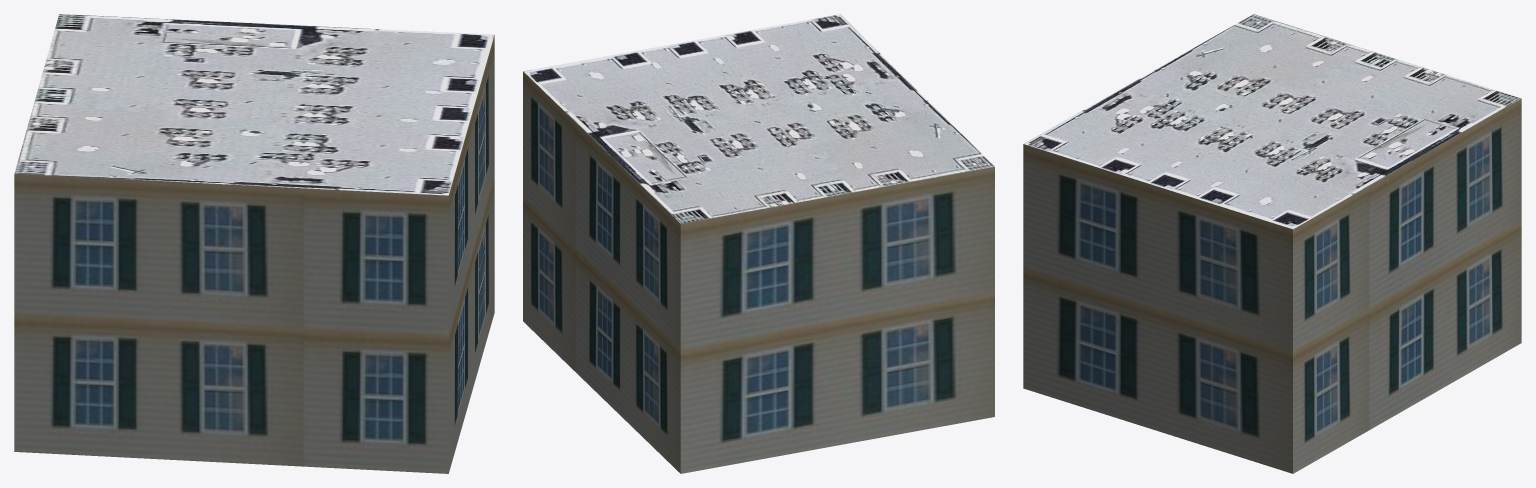
File: ResTex__3788.fbx
3 views of the same model, side by side, from view 1: azimuth 30°, elevation 25°; view 2: azimuth 150°, elevation 25°; view 3: azimuth 270°, elevation 25° (orthographic). The views are drawn at different scales.
Parts seen in each view (by area): view 1: CityEngineMaterial_7_m, CityEngineMaterial_15_m; view 2: CityEngineMaterial_7_m, CityEngineMaterial_15_m; view 3: CityEngineMaterial_7_m, CityEngineMaterial_15_m.
Part boxes in pixels (x1,y1,x2,y2): CityEngineMaterial_7_m: (14, 35, 494, 473); CityEngineMaterial_15_m: (14, 14, 494, 195); CityEngineMaterial_7_m: (523, 71, 994, 473); CityEngineMaterial_15_m: (523, 14, 994, 223); CityEngineMaterial_7_m: (1023, 98, 1521, 473); CityEngineMaterial_15_m: (1024, 14, 1521, 229).
Size of the model in its own units: 11.34 by 6 by 11.08.
Materials: 2 (2 with a texture image).
